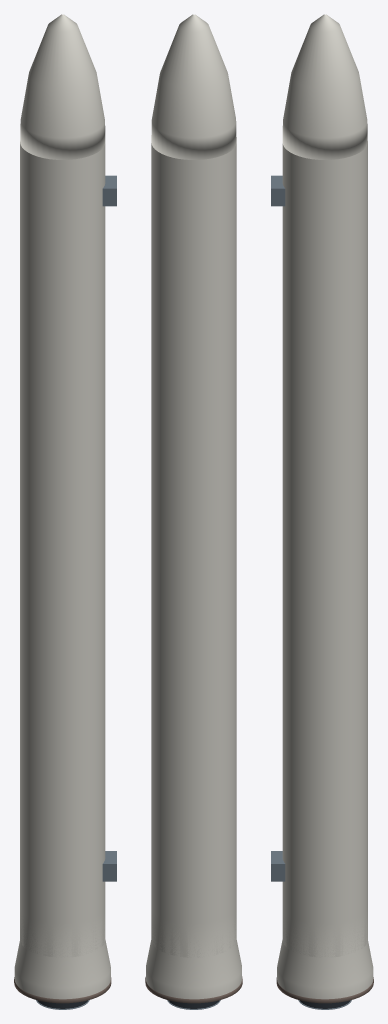
Rendered from atlas_v_srb_04.glb.
The picture shows the model from 3 angles, left to right: view 1: azimuth 90°, elevation 25°; view 2: azimuth 150°, elevation 25°; view 3: azimuth 270°, elevation 25°; orthographic projection.
Parts seen in each view (by area): view 1: atlas_v_srb_04.mesh_Warm_white_enamel, atlas_v_srb_04.nose.mesh_Warm_white_enamel, atlas_v_srb_04.aft_skirt.mesh_Warm_white_enamel, atlas_v_srb_04.mesh_Machined_steel, atlas_v_srb_04.aft_skirt.mesh_Heat-stained_alloy; view 2: atlas_v_srb_04.mesh_Warm_white_enamel, atlas_v_srb_04.nose.mesh_Warm_white_enamel, atlas_v_srb_04.aft_skirt.mesh_Warm_white_enamel, atlas_v_srb_04.aft_skirt.mesh_Heat-stained_alloy; view 3: atlas_v_srb_04.mesh_Warm_white_enamel, atlas_v_srb_04.nose.mesh_Warm_white_enamel, atlas_v_srb_04.aft_skirt.mesh_Warm_white_enamel, atlas_v_srb_04.mesh_Machined_steel, atlas_v_srb_04.aft_skirt.mesh_Heat-stained_alloy.
Part boxes in pixels (x1,y1,x2,y2): atlas_v_srb_04.mesh_Warm_white_enamel: [20, 142, 105, 957]; atlas_v_srb_04.nose.mesh_Warm_white_enamel: [20, 14, 105, 159]; atlas_v_srb_04.aft_skirt.mesh_Warm_white_enamel: [14, 907, 110, 999]; atlas_v_srb_04.mesh_Machined_steel: [102, 175, 116, 881]; atlas_v_srb_04.aft_skirt.mesh_Heat-stained_alloy: [14, 977, 111, 1003]; atlas_v_srb_04.mesh_Warm_white_enamel: [151, 143, 236, 957]; atlas_v_srb_04.nose.mesh_Warm_white_enamel: [151, 14, 236, 159]; atlas_v_srb_04.aft_skirt.mesh_Warm_white_enamel: [146, 906, 241, 999]; atlas_v_srb_04.aft_skirt.mesh_Heat-stained_alloy: [145, 976, 242, 1003]; atlas_v_srb_04.mesh_Warm_white_enamel: [282, 142, 367, 957]; atlas_v_srb_04.nose.mesh_Warm_white_enamel: [282, 14, 367, 159]; atlas_v_srb_04.aft_skirt.mesh_Warm_white_enamel: [277, 906, 373, 999]; atlas_v_srb_04.mesh_Machined_steel: [271, 175, 285, 881]; atlas_v_srb_04.aft_skirt.mesh_Heat-stained_alloy: [276, 977, 373, 1003].
Size of the model in its own units: 1.8 by 20.1 by 1.9.
